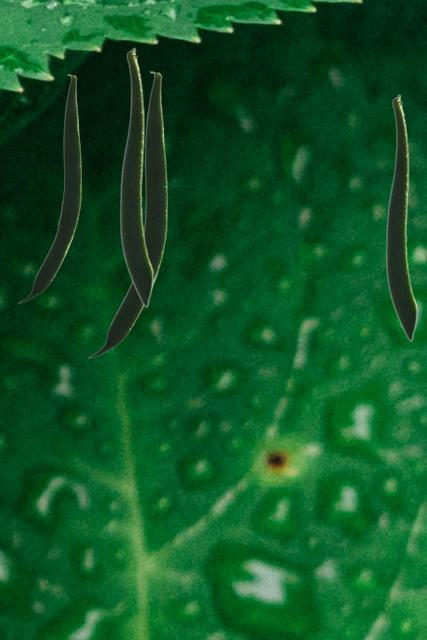french_bean: (87, 71, 166, 357), (17, 74, 80, 302), (119, 47, 153, 307), (385, 94, 417, 341)
